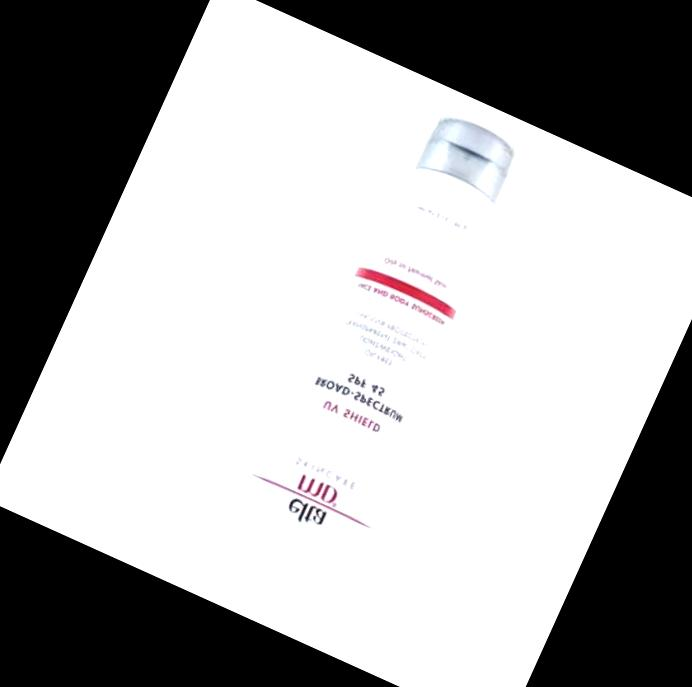cosmetic: (196, 92, 557, 627)
